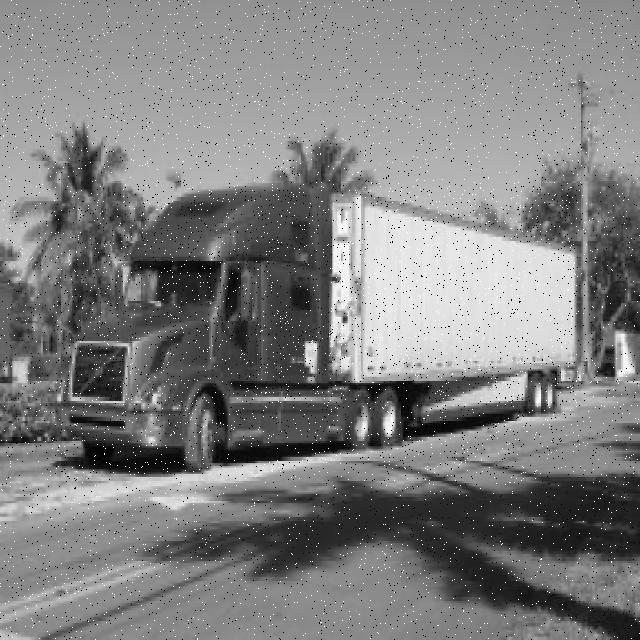Tractor Trailer: (55, 186, 581, 473)
